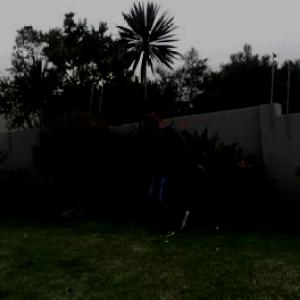land: (107, 89, 242, 255)
